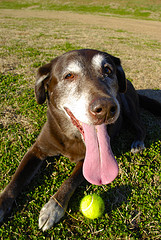tennis ball: (78, 193, 107, 219)
